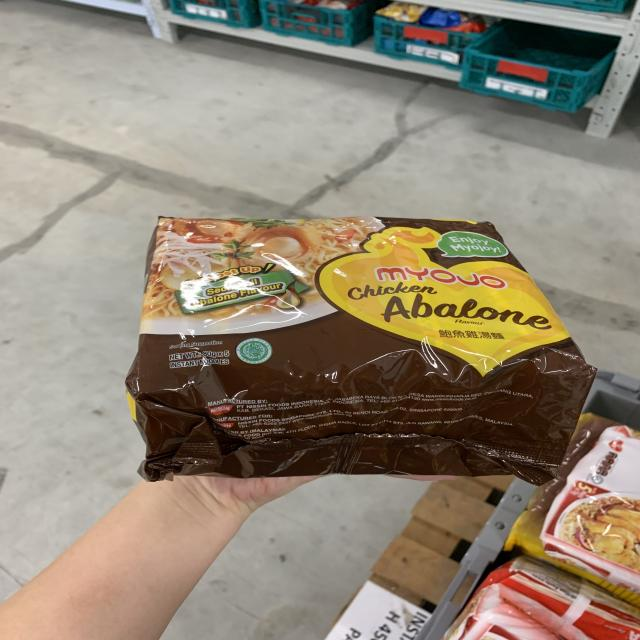object_name: (137, 219, 562, 470)
